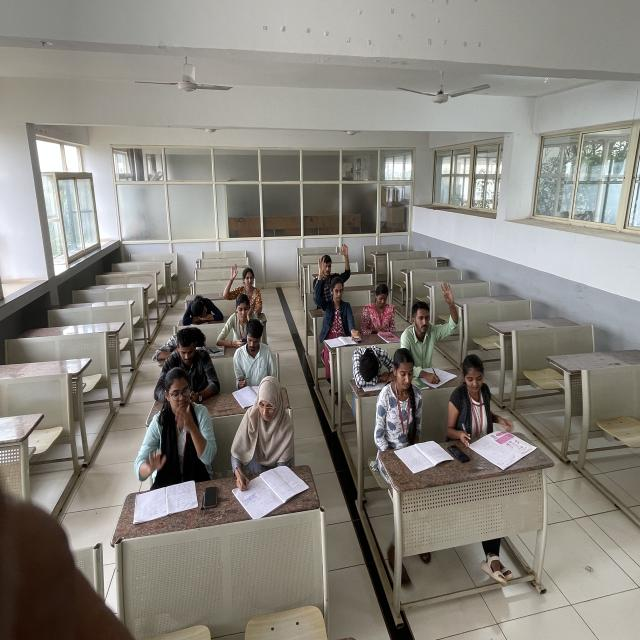Hand Rising: (403, 281, 463, 369), (315, 258, 359, 336), (317, 244, 353, 304), (226, 262, 266, 310)
Reading: (379, 348, 431, 472)
Sleeping: (350, 344, 397, 389), (182, 290, 222, 326)
Using Phone: (153, 332, 220, 407), (356, 277, 399, 334), (215, 296, 261, 346)
Writing: (235, 382, 296, 497), (448, 354, 506, 450), (232, 317, 276, 403)
